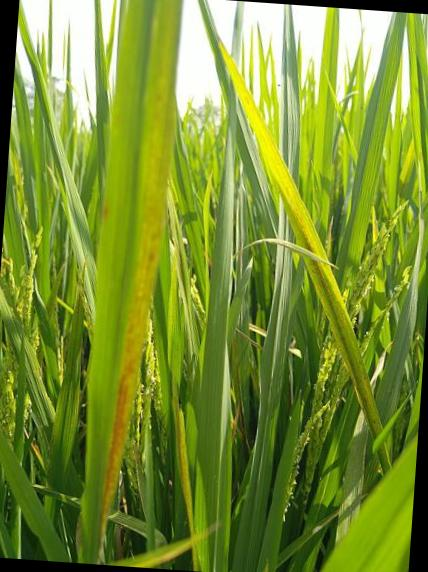Leaf Streak: (99, 91, 175, 560), (276, 171, 383, 440), (174, 396, 194, 533), (101, 180, 109, 224)
